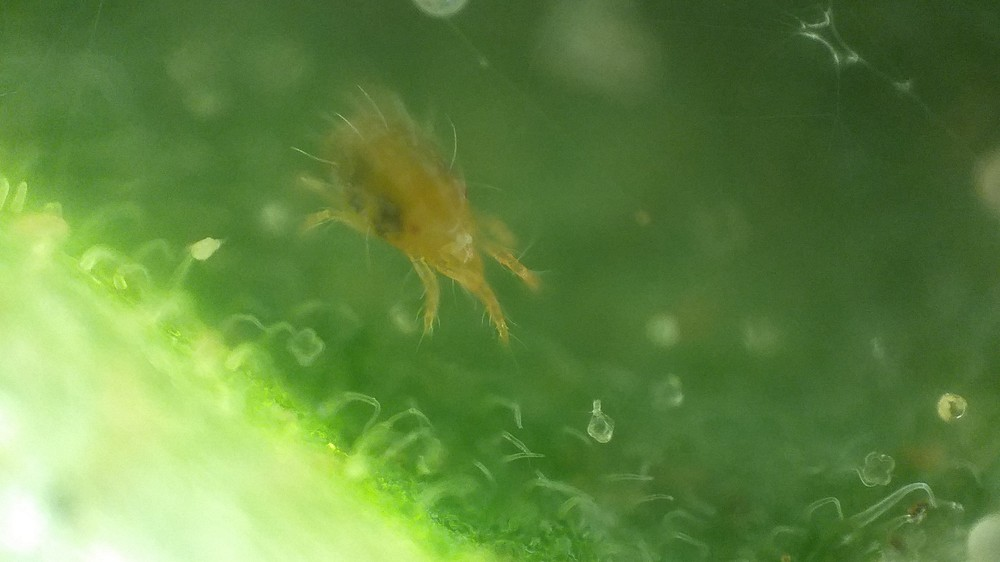Aracnido Rojo: (262, 67, 571, 370)
